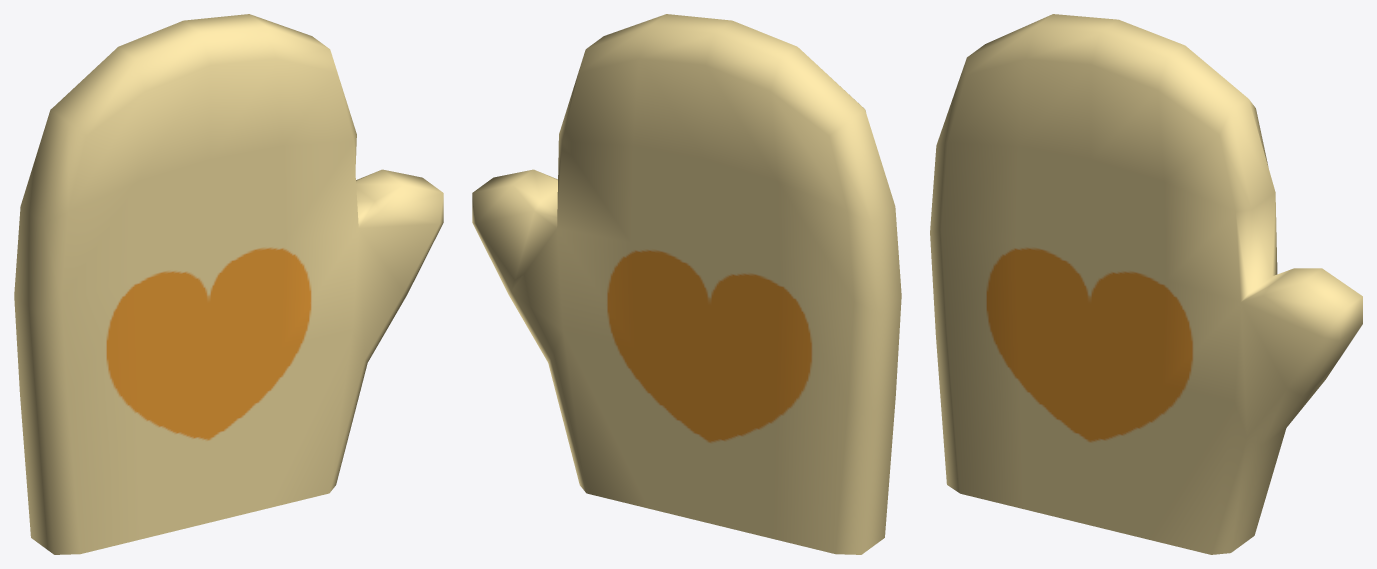
File: Props_GantCuisine.fbx
3 renders of one model, left to right at view 1: azimuth 30°, elevation 25°; view 2: azimuth 150°, elevation 25°; view 3: azimuth 330°, elevation 25°, orthographic.
Parts seen in each view (by area): view 1: gant_cuisine; view 2: gant_cuisine; view 3: gant_cuisine.
Part boxes in pixels (x1=…): gant_cuisine: x1=14, y1=14, x2=443, y2=554; gant_cuisine: x1=472, y1=14, x2=901, y2=554; gant_cuisine: x1=930, y1=14, x2=1362, y2=554.
Bounding box in the file's own units: 15.04 × 17.04 × 2.32.
